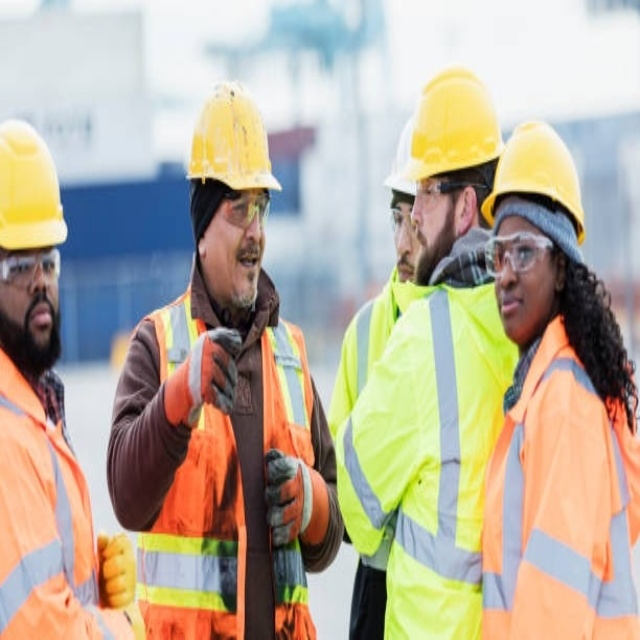Gafas: (411, 172, 483, 215), (2, 242, 64, 286), (483, 230, 552, 269), (219, 191, 274, 230), (386, 203, 410, 236)
Guantes: (161, 327, 241, 429), (262, 443, 329, 549), (94, 530, 141, 611)
Sin_mascara: (23, 296, 55, 348), (232, 242, 261, 294), (497, 282, 527, 331), (412, 215, 434, 273), (393, 251, 412, 282)
